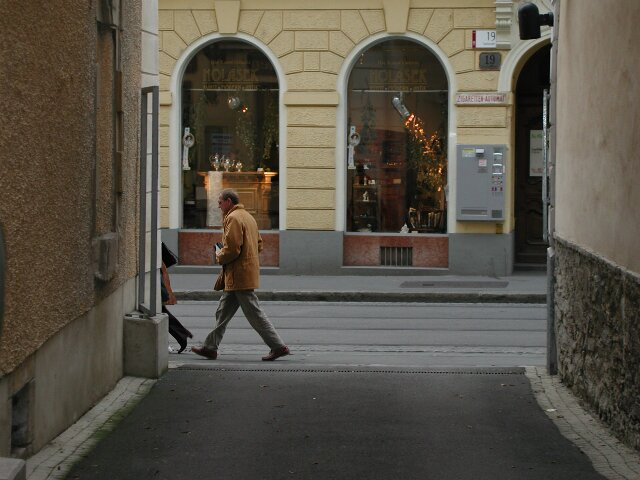person: (191, 185, 302, 362)
